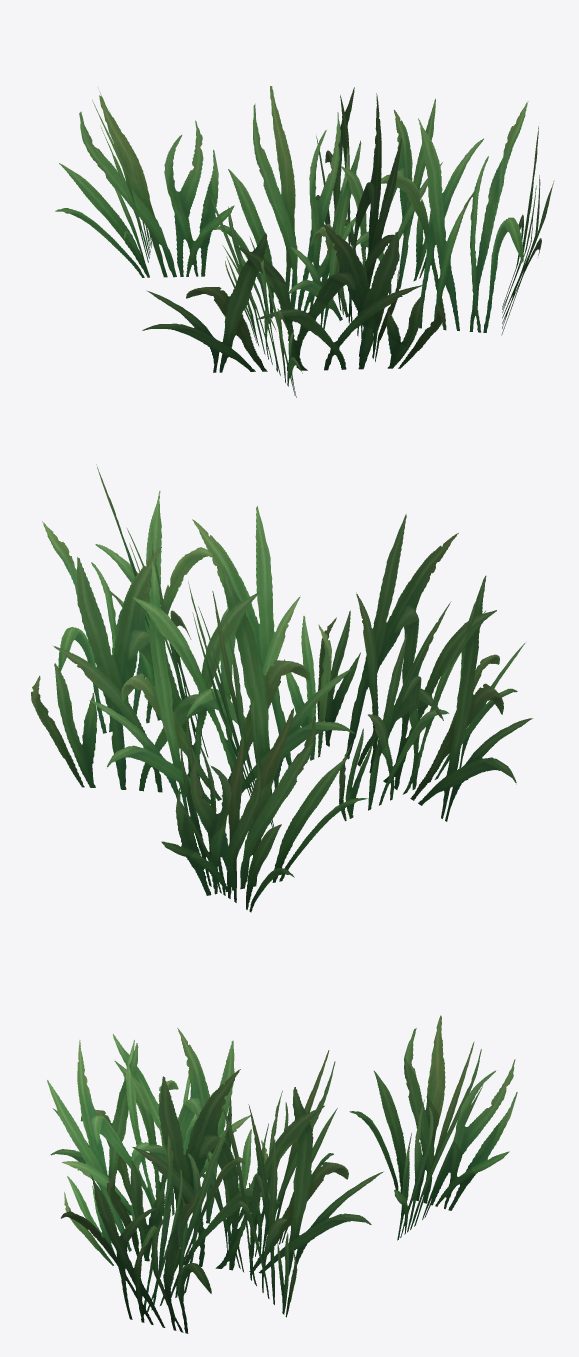
File: 1001_Plant_huacao_09.FBX
The picture shows the model from 3 angles, top to bottom: view 1: azimuth 30°, elevation 25°; view 2: azimuth 150°, elevation 25°; view 3: azimuth 270°, elevation 25°; orthographic projection. The views are drawn at different scales.
Parts seen in each view (by area): view 1: 1001_Plant_huacao_09; view 2: 1001_Plant_huacao_09; view 3: 1001_Plant_huacao_09.
Boxes of the visible parts, <box> form: 1001_Plant_huacao_09: <box>55,86,554,397</box>; 1001_Plant_huacao_09: <box>31,464,533,912</box>; 1001_Plant_huacao_09: <box>47,1015,517,1333</box>.
Bounding box in the file's own units: 206 × 109 × 240.
